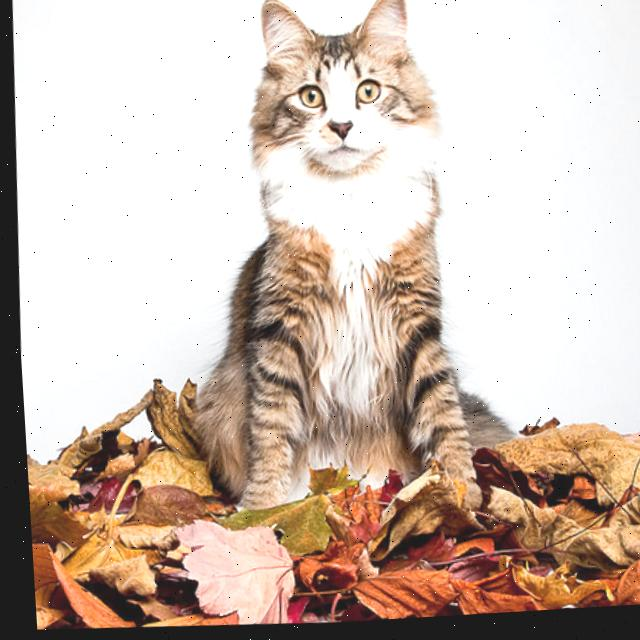Maine Coon: (169, 0, 537, 543)
